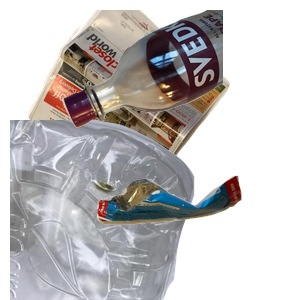glass: (60, 10, 300, 130)
paper: (23, 10, 245, 190)
plastic: (10, 120, 197, 300)
trash: (94, 173, 300, 300)
